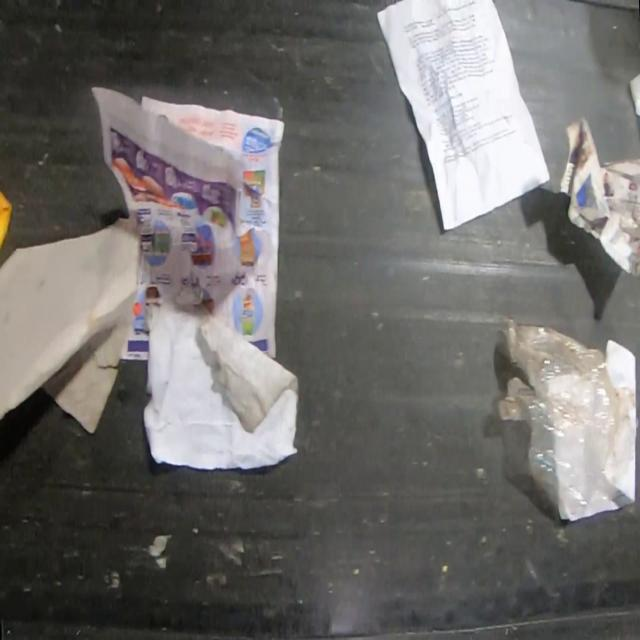soft_plastic: (498, 315, 638, 513)
